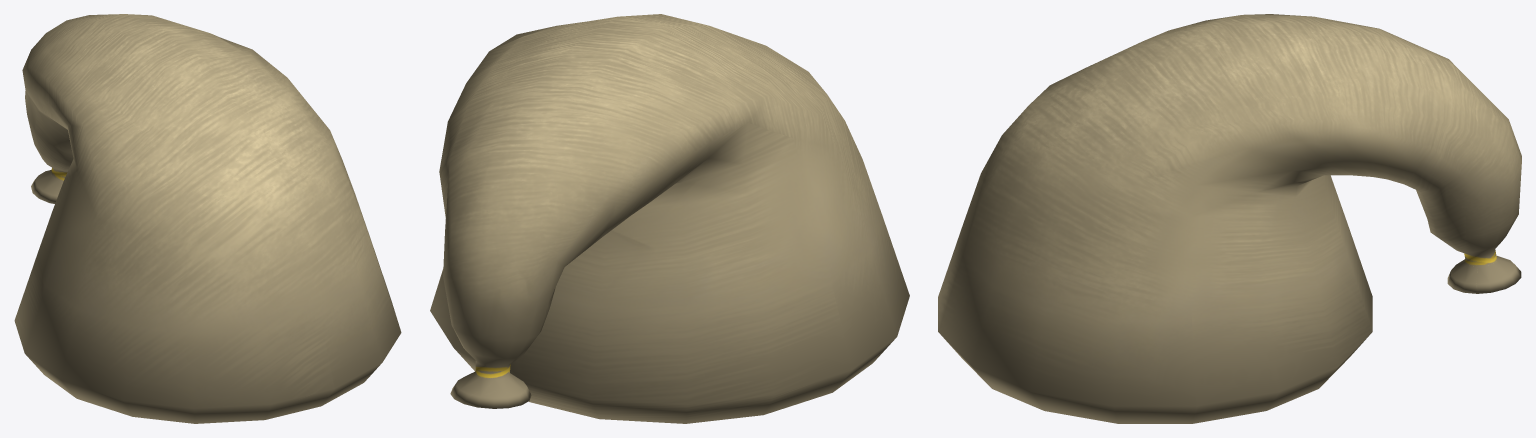
The model's file is Model_TexturaSacoMurcho_v1.fbx.
3 views of the same model, side by side, from view 1: azimuth 30°, elevation 25°; view 2: azimuth 150°, elevation 25°; view 3: azimuth 270°, elevation 25° (orthographic). The views are drawn at different scales.
Visible parts, largest first — view 1: Circle.002; view 2: Circle.002; view 3: Circle.002.
Boxes of the visible parts, x1,y1,x2,y2 form: Circle.002: (14,14,401,423); Circle.002: (430,14,909,423); Circle.002: (938,14,1521,423).
Bounding box in the file's own units: 227 × 179 × 305.
